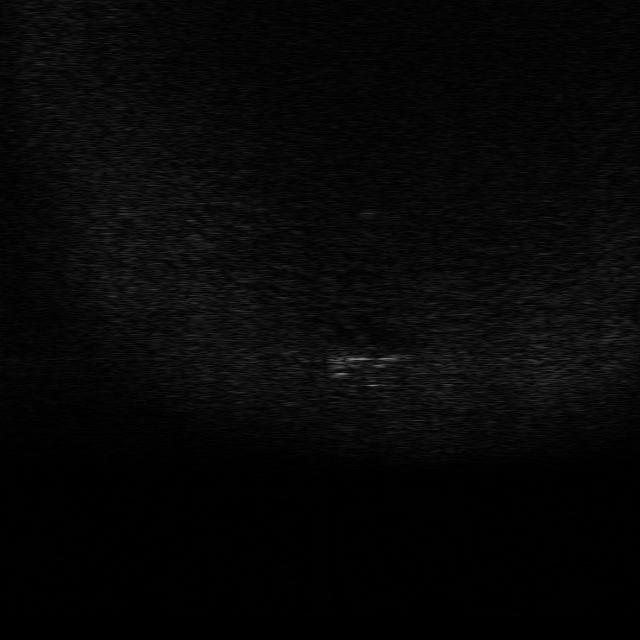plane: (316, 345, 406, 378)
